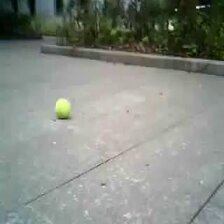tennis: (55, 98, 70, 117)
